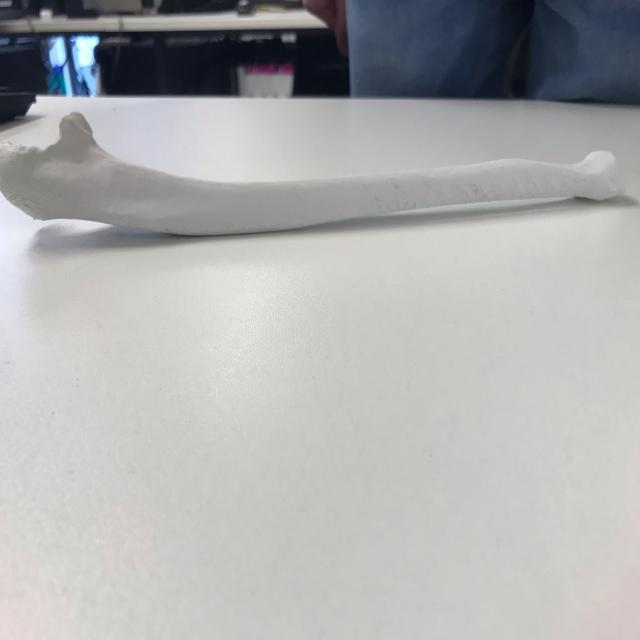bone: (0, 104, 626, 248)
